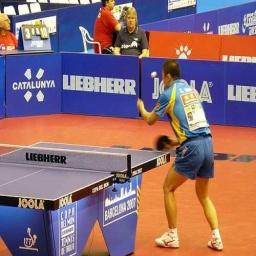white: (151, 71, 157, 78)
